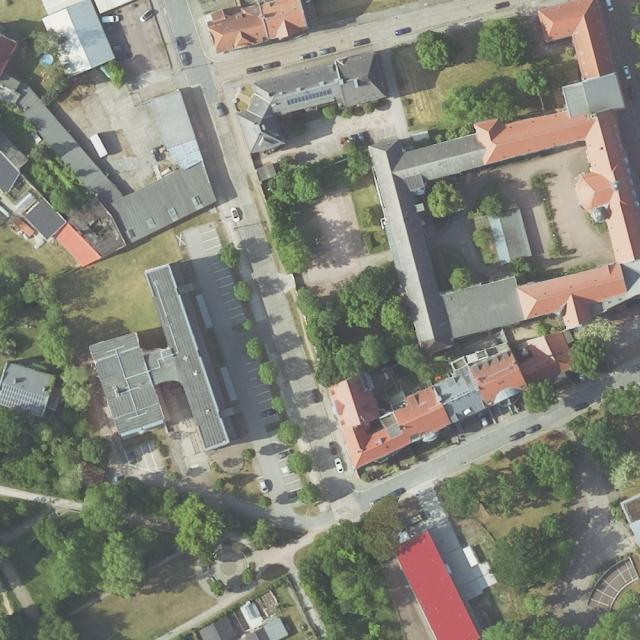PV: (0, 384, 47, 419), (286, 88, 332, 106)
